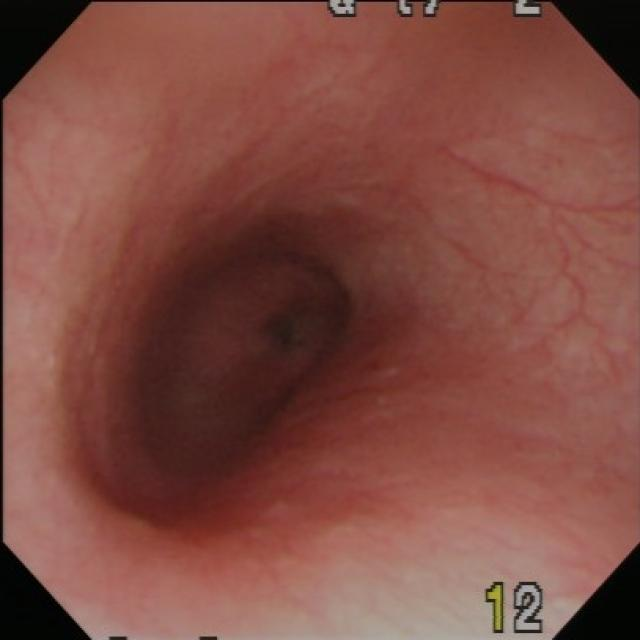A: (201, 374, 416, 549)
E: (135, 242, 355, 475)
S: (485, 581, 547, 636), (325, 3, 545, 18)
